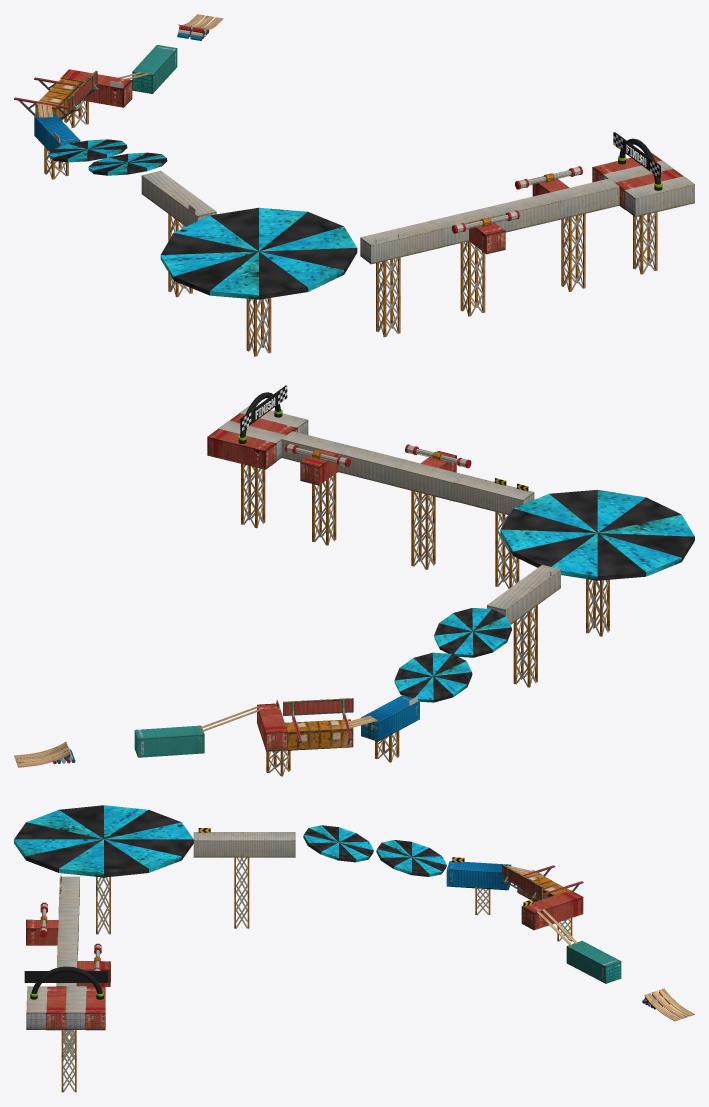
File: 21_Parkour.fbx
The picture shows the model from 3 angles, top to bottom: view 1: azimuth 30°, elevation 25°; view 2: azimuth 150°, elevation 25°; view 3: azimuth 270°, elevation 25°; orthographic projection. The views are drawn at different scales.
Parts seen in each view (by area): view 1: TurningPlatform__2_, stcontainerwhitetwo, stcontainerwhitetwo__4_, stcontainerwhitetwo__6_, stcontainerwhitetwo__3_, stcontainerwhitetwo__2_, stcontainergreen, stcontainerred__4_, TurningPlatform, TurningPlatform__1_, orangescaffold__5_, stcontainerwhitetwo__1_ (+18 smaller); view 2: TurningPlatform__2_, TurningPlatform__1_, TurningPlatform, stcontainerwhitetwo__4_, stcontainerwhitetwo, stcontainergreen, stcontainerred__8_, stcontainerorange, stcontainerwhitetwo__1_, stcontainerwhitetwo__2_, stcontainerblue, stcontainerred__4_ (+14 smaller); view 3: TurningPlatform__2_, stcontainerwhitetwo__4_, TurningPlatform, TurningPlatform__1_, stcontainerred__4_, stcontainerblue, stcontainergreen, finishObject, stcontainerred__7_, stcontainerwhitetwo__5_, RampWood, stcontainerwhitetwo__6_ (+10 smaller).
Part boxes in pixels (left/top/right/bottom): TurningPlatform__2_: left=160, top=207, right=357, bottom=299; stcontainerwhitetwo: left=360, top=220, right=441, bottom=264; stcontainerwhitetwo__4_: left=141, top=170, right=216, bottom=226; stcontainerwhitetwo__6_: left=624, top=176, right=694, bottom=217; stcontainerwhitetwo__3_: left=550, top=178, right=619, bottom=219; stcontainerwhitetwo__2_: left=491, top=192, right=560, bottom=232; stcontainergreen: left=132, top=45, right=177, bottom=93; stcontainerred__4_: left=60, top=69, right=132, bottom=107; TurningPlatform: left=48, top=139, right=127, bottom=162; TurningPlatform__1_: left=88, top=152, right=167, bottom=175; orangescaffold__5_: left=246, top=299, right=271, bottom=356; stcontainerwhitetwo__1_: left=431, top=206, right=500, bottom=247; TurningPlatform__2_: left=500, top=489, right=694, bottom=580; TurningPlatform__1_: left=434, top=608, right=511, bottom=657; TurningPlatform: left=394, top=652, right=472, bottom=702; stcontainerwhitetwo__4_: left=487, top=565, right=560, bottom=624; stcontainerwhitetwo: left=454, top=474, right=534, bottom=514; stcontainergreen: left=134, top=725, right=204, bottom=757; stcontainerred__8_: left=207, top=429, right=276, bottom=469; stcontainerorange: left=285, top=719, right=353, bottom=750; stcontainerwhitetwo__1_: left=396, top=460, right=464, bottom=501; stcontainerwhitetwo__2_: left=339, top=445, right=407, bottom=486; stcontainerblue: left=361, top=695, right=419, bottom=741; stcontainerred__4_: left=257, top=703, right=287, bottom=751; TurningPlatform__2_: left=14, top=805, right=193, bottom=877; stcontainerwhitetwo__4_: left=193, top=832, right=295, bottom=857; TurningPlatform: left=376, top=840, right=446, bottom=876; TurningPlatform__1_: left=303, top=825, right=373, bottom=862; stcontainerred__4_: left=521, top=890, right=583, bottom=930; stcontainerblue: left=446, top=861, right=511, bottom=890; stcontainergreen: left=566, top=940, right=621, bottom=983; finishObject: left=24, top=966, right=108, bottom=999; stcontainerred__7_: left=46, top=986, right=66, bottom=1030; stcontainerwhitetwo__5_: left=65, top=986, right=86, bottom=1029; RampWood: left=642, top=988, right=694, bottom=1021; stcontainerwhitetwo__6_: left=26, top=986, right=47, bottom=1029.
Size of the model in its own units: 13478 by 3706 by 18172.
